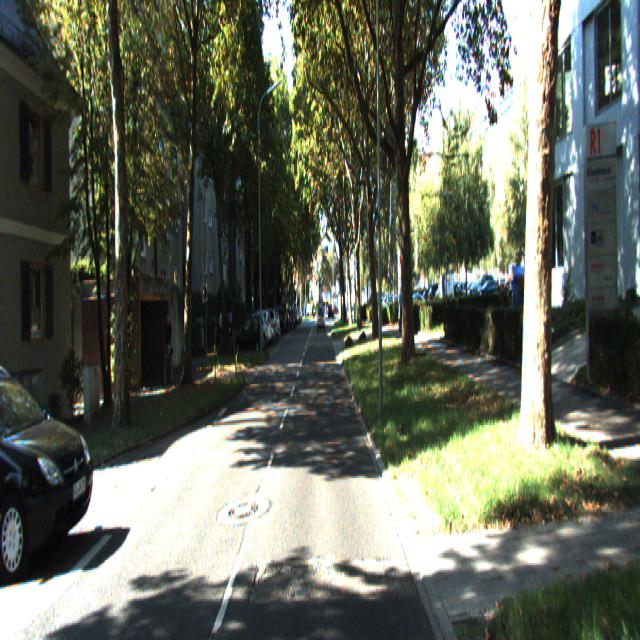Car: (0, 349, 101, 591), (231, 316, 263, 358)
